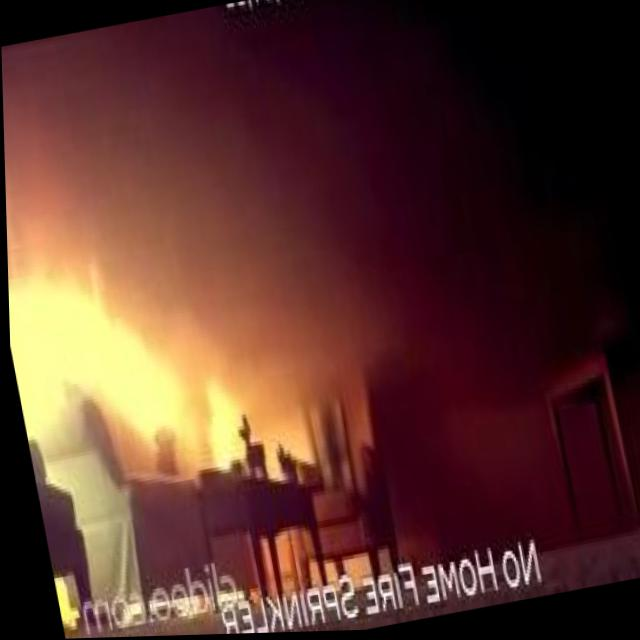fire: (6, 248, 193, 473), (197, 373, 252, 473)
